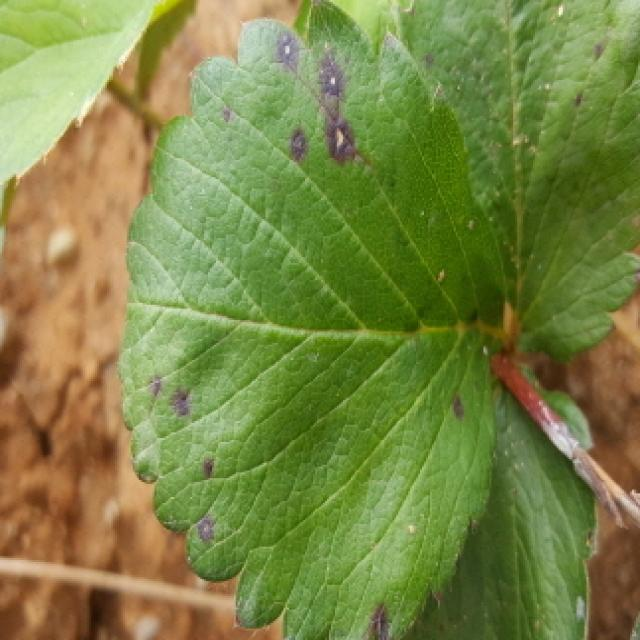Leaf Spot: (118, 0, 506, 640), (397, 0, 640, 361), (404, 361, 601, 640)
